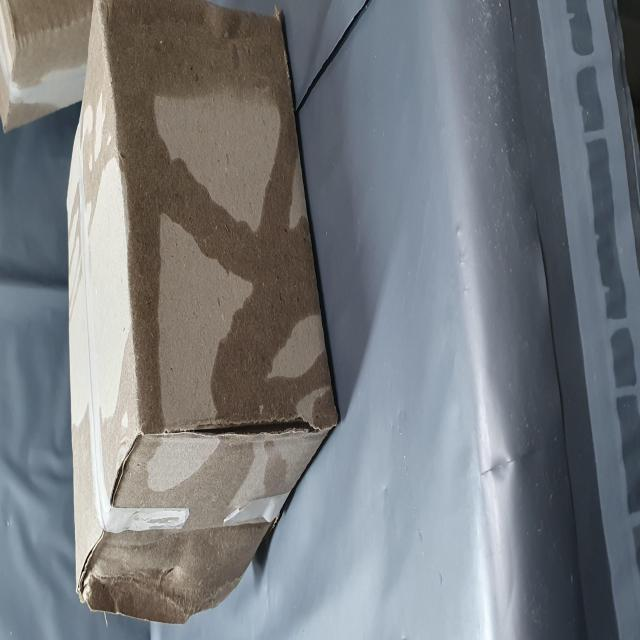wet: (80, 183, 358, 579), (15, 146, 63, 488)
